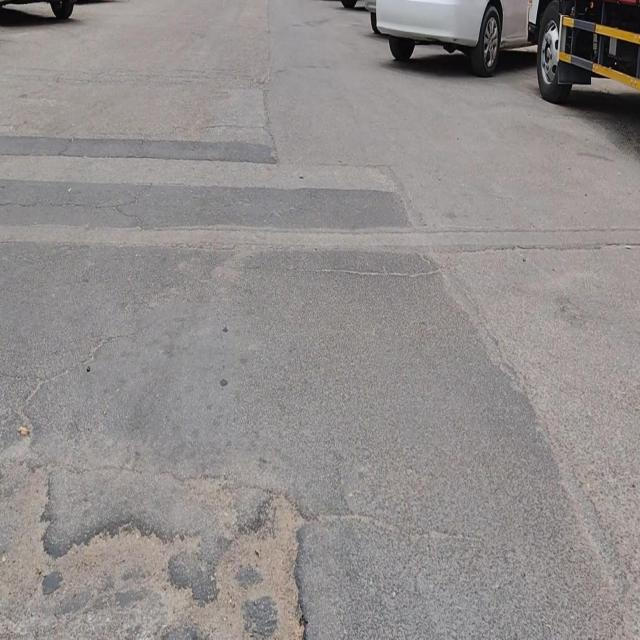Potholes: (42, 517, 221, 640), (194, 490, 312, 640)
